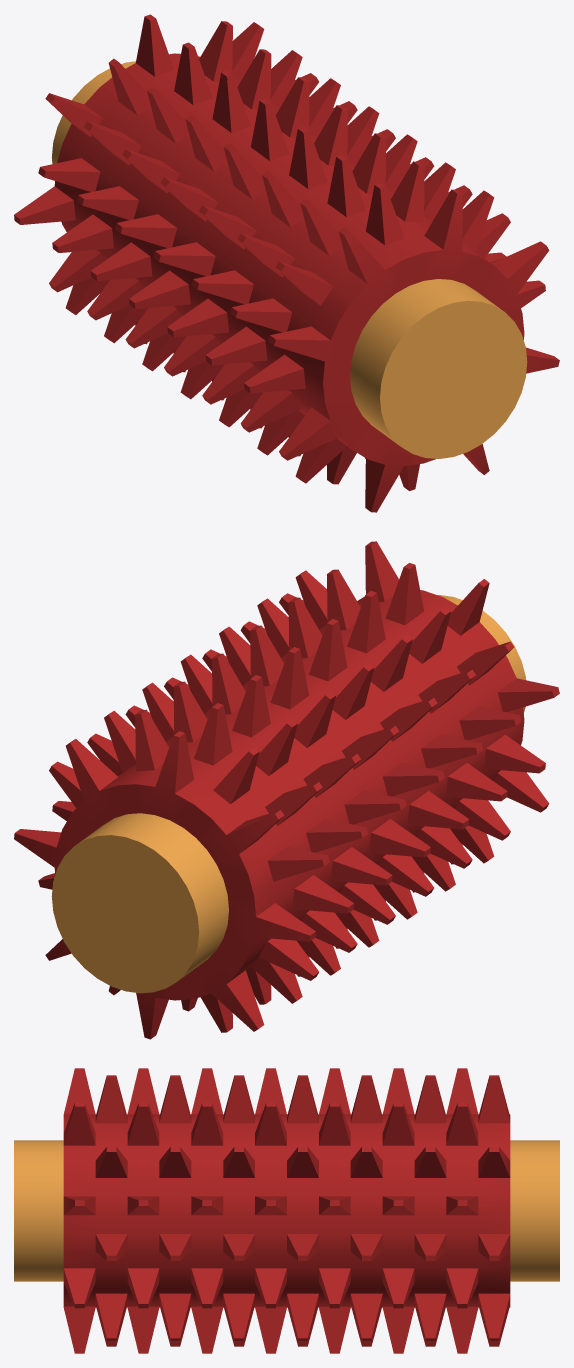
The model's file is bleder-jelly.fbx.
The picture shows the model from 3 angles, top to bottom: view 1: azimuth 30°, elevation 25°; view 2: azimuth 150°, elevation 25°; view 3: azimuth 270°, elevation 25°; orthographic projection. The views are drawn at different scales.
Visible parts, largest first — view 1: Cylinder.000; view 2: Cylinder.000; view 3: Cylinder.000.
Boxes of the visible parts, x1,y1,x2,y2 form: Cylinder.000: (14,14,559,512); Cylinder.000: (14,541,559,1039); Cylinder.000: (14,1068,559,1353).
Bounding box in the file's own units: 101 × 101 × 193.
